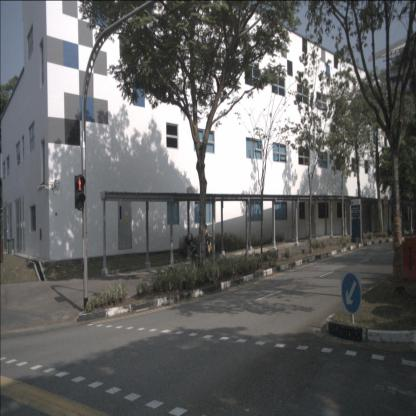movable_object-barrier: (392, 238, 416, 282)
vehicle-bicycle: (204, 237, 214, 267)
vehicle-motorcycle: (184, 232, 210, 270)
